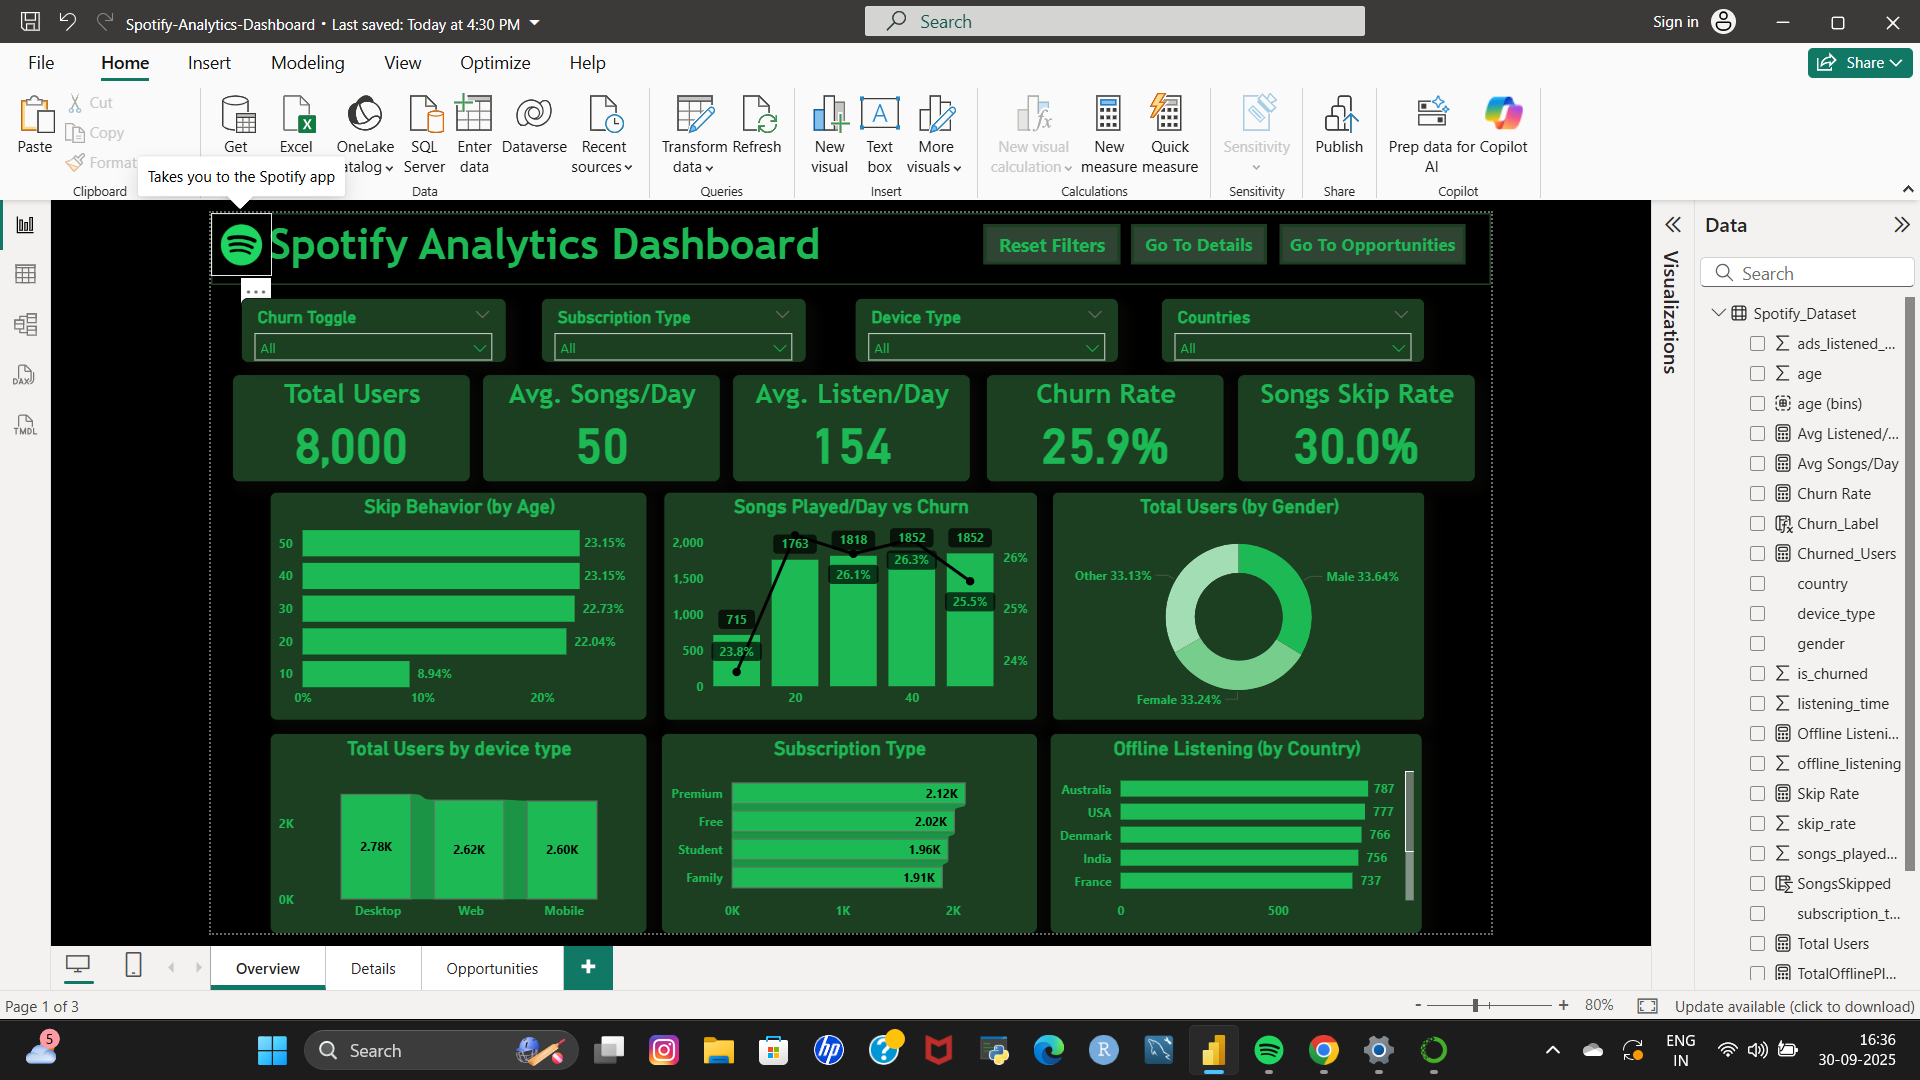

The page's visual inventory and layout, read from the dashboard file:
{"tool":"powerbi","page":{"name":"Overview","canvas":[1280,720],"ordinal":0},"visuals":[{"type":"textbox","box":[0,0,1280.3,72.1],"z":0},{"type":"actionButton","box":[919.6,11,135.7,40.4],"z":1000},{"type":"actionButton","box":[1068.8,11,185.9,40.4],"z":2000},{"type":"card","title":"Total Users","fields":{"Values":["Spotify_Dataset.Total Users"]},"box":[20.8,161.4,238.5,107.6],"z":3000},{"type":"card","title":"Churn Rate","fields":{"Values":["Spotify_Dataset.Churn Rate"]},"box":[775.3,161.4,238.5,107.6],"z":4000},{"type":"card","title":"Avg. Listen/Day","fields":{"Values":["Spotify_Dataset.Avg Listened/Day"]},"box":[520.9,161.4,238.5,107.6],"z":5000},{"type":"card","title":"Avg. Songs/Day","fields":{"Values":["Spotify_Dataset.Avg Songs/Day"]},"box":[271.5,161.4,238.5,107.6],"z":6000},{"type":"card","title":"Songs Skip Rate","fields":{"Values":["Spotify_Dataset.Skip Rate"]},"box":[1026,161.4,238.5,107.6],"z":7000},{"type":"lineClusteredColumnComboChart","title":"Songs Played/Day vs Churn","fields":{"Category":["Spotify_Dataset.age (bins)"],"Y":["CountNonNull(Spotify_Dataset.songs_played_per_day)"],"Y2":["Spotify_Dataset.Churn Rate"]},"box":[452.4,278.8,374.2,228.7],"z":8000},{"type":"barChart","title":"Skip Behavior (by Age)","fields":{"Category":["Spotify_Dataset.age (bins)"],"Y":["Divide(CountNonNull(Spotify_Dataset.skip_rate), ScopedEval(CountNonNull(Spotify_Dataset.skip_rate), []))"]},"box":[58.7,278.8,377.9,228.7],"z":9000},{"type":"donutChart","title":"Total Users (by Gender)","fields":{"Category":["Spotify_Dataset.gender"],"Y":["Spotify_Dataset.Total Users"]},"box":[841.3,278.8,373,228.7],"z":10000},{"type":"barChart","title":"Subscription Type","fields":{"Category":["Spotify_Dataset.subscription_type"],"Y":["Spotify_Dataset.Total Users"]},"box":[450,519.7,376.6,200.5],"z":11000},{"type":"columnChart","title":"Total Users by device type","fields":{"Category":["Spotify_Dataset.device_type"],"Y":["Spotify_Dataset.Total Users"]},"box":[58.7,519.7,377.9,200.5],"z":12000},{"type":"clusteredBarChart","title":"Offline Listening (by Country)","fields":{"Category":["Spotify_Dataset.country"],"Y":["Spotify_Dataset.TotalOfflinePlays"]},"box":[838.9,519.7,373,200.5],"z":13000},{"type":"slicer","fields":{"Values":["Spotify_Dataset.subscription_type"]},"box":[330.2,85.6,265.4,64.8],"z":15000},{"type":"slicer","fields":{"Values":["Spotify_Dataset.device_type"]},"box":[643.2,85.6,264.1,64.8],"z":16000},{"type":"actionButton","box":[772.8,11,137,40.4],"z":17000},{"type":"slicer","fields":{"Values":["Spotify_Dataset.country"]},"box":[950.1,85.6,264.1,64.8],"z":18000},{"type":"image","box":[0,0,61.1,63.6],"z":19000},{"type":"slicer","fields":{"Values":["Spotify_Dataset.Churn_Label"]},"box":[30.6,85.6,265.4,64.8],"z":20000}]}

Visuals, with their boxes on the page's 1280x720 design canvas (x1, y1, x2, y2). These are canvas units, not pixel positions in the 1920x1080 screenshot, which may show the page scaled, cropped or inside an application window:
textbox: 0,0,1280,72
actionButton: 920,11,1055,51
actionButton: 1069,11,1255,51
"Total Users" card: 21,161,259,269
"Churn Rate" card: 775,161,1014,269
"Avg. Listen/Day" card: 521,161,759,269
"Avg. Songs/Day" card: 272,161,510,269
"Songs Skip Rate" card: 1026,161,1264,269
"Songs Played/Day vs Churn" lineClusteredColumnComboChart: 452,279,827,508
"Skip Behavior (by Age)" barChart: 59,279,437,508
"Total Users (by Gender)" donutChart: 841,279,1214,508
"Subscription Type" barChart: 450,520,827,720
"Total Users by device type" columnChart: 59,520,437,720
"Offline Listening (by Country)" clusteredBarChart: 839,520,1212,720
slicer - Spotify_Dataset.subscription_type: 330,86,596,150
slicer - Spotify_Dataset.device_type: 643,86,907,150
actionButton: 773,11,910,51
slicer - Spotify_Dataset.country: 950,86,1214,150
image: 0,0,61,64
slicer - Spotify_Dataset.Churn_Label: 31,86,296,150
